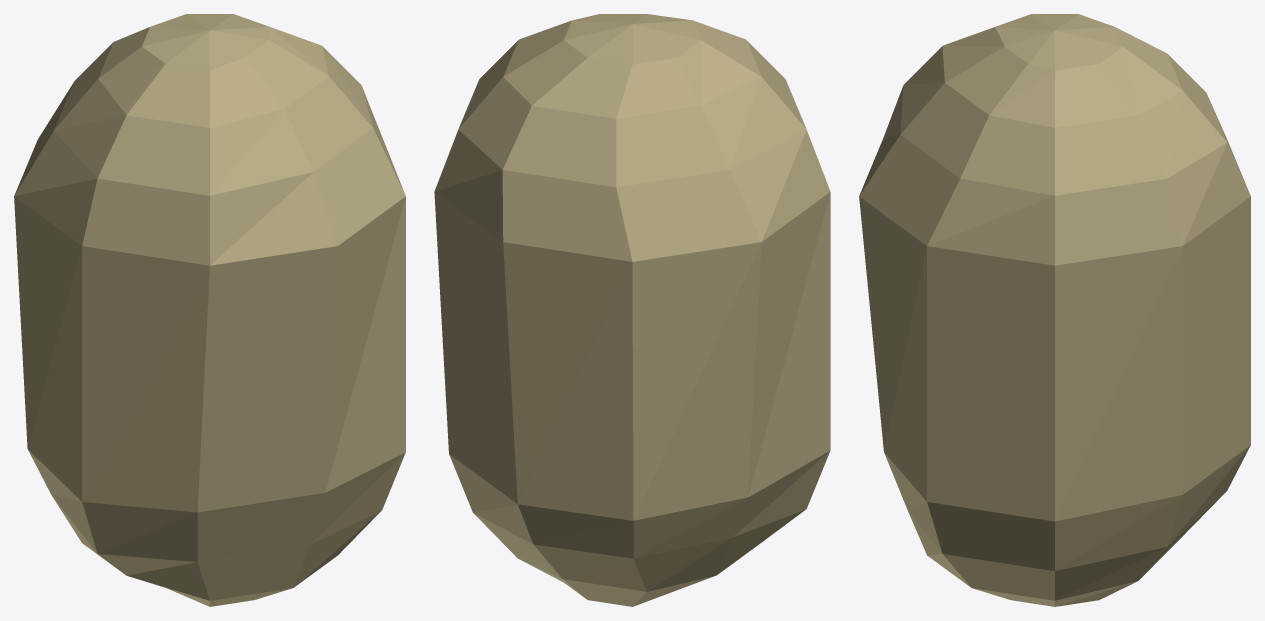
File: papa.fbx
The picture shows the model from 3 angles, left to right: view 1: azimuth 30°, elevation 25°; view 2: azimuth 150°, elevation 25°; view 3: azimuth 270°, elevation 25°; orthographic projection.
Visible parts, largest first — view 1: papa; view 2: papa; view 3: papa.
Boxes of the visible parts, box(x1,y1,x2,y2) form: papa: box(14, 14, 405, 606); papa: box(434, 14, 830, 606); papa: box(859, 14, 1250, 606).
Size of the model in its own units: 1.91 by 3.05 by 1.94.
